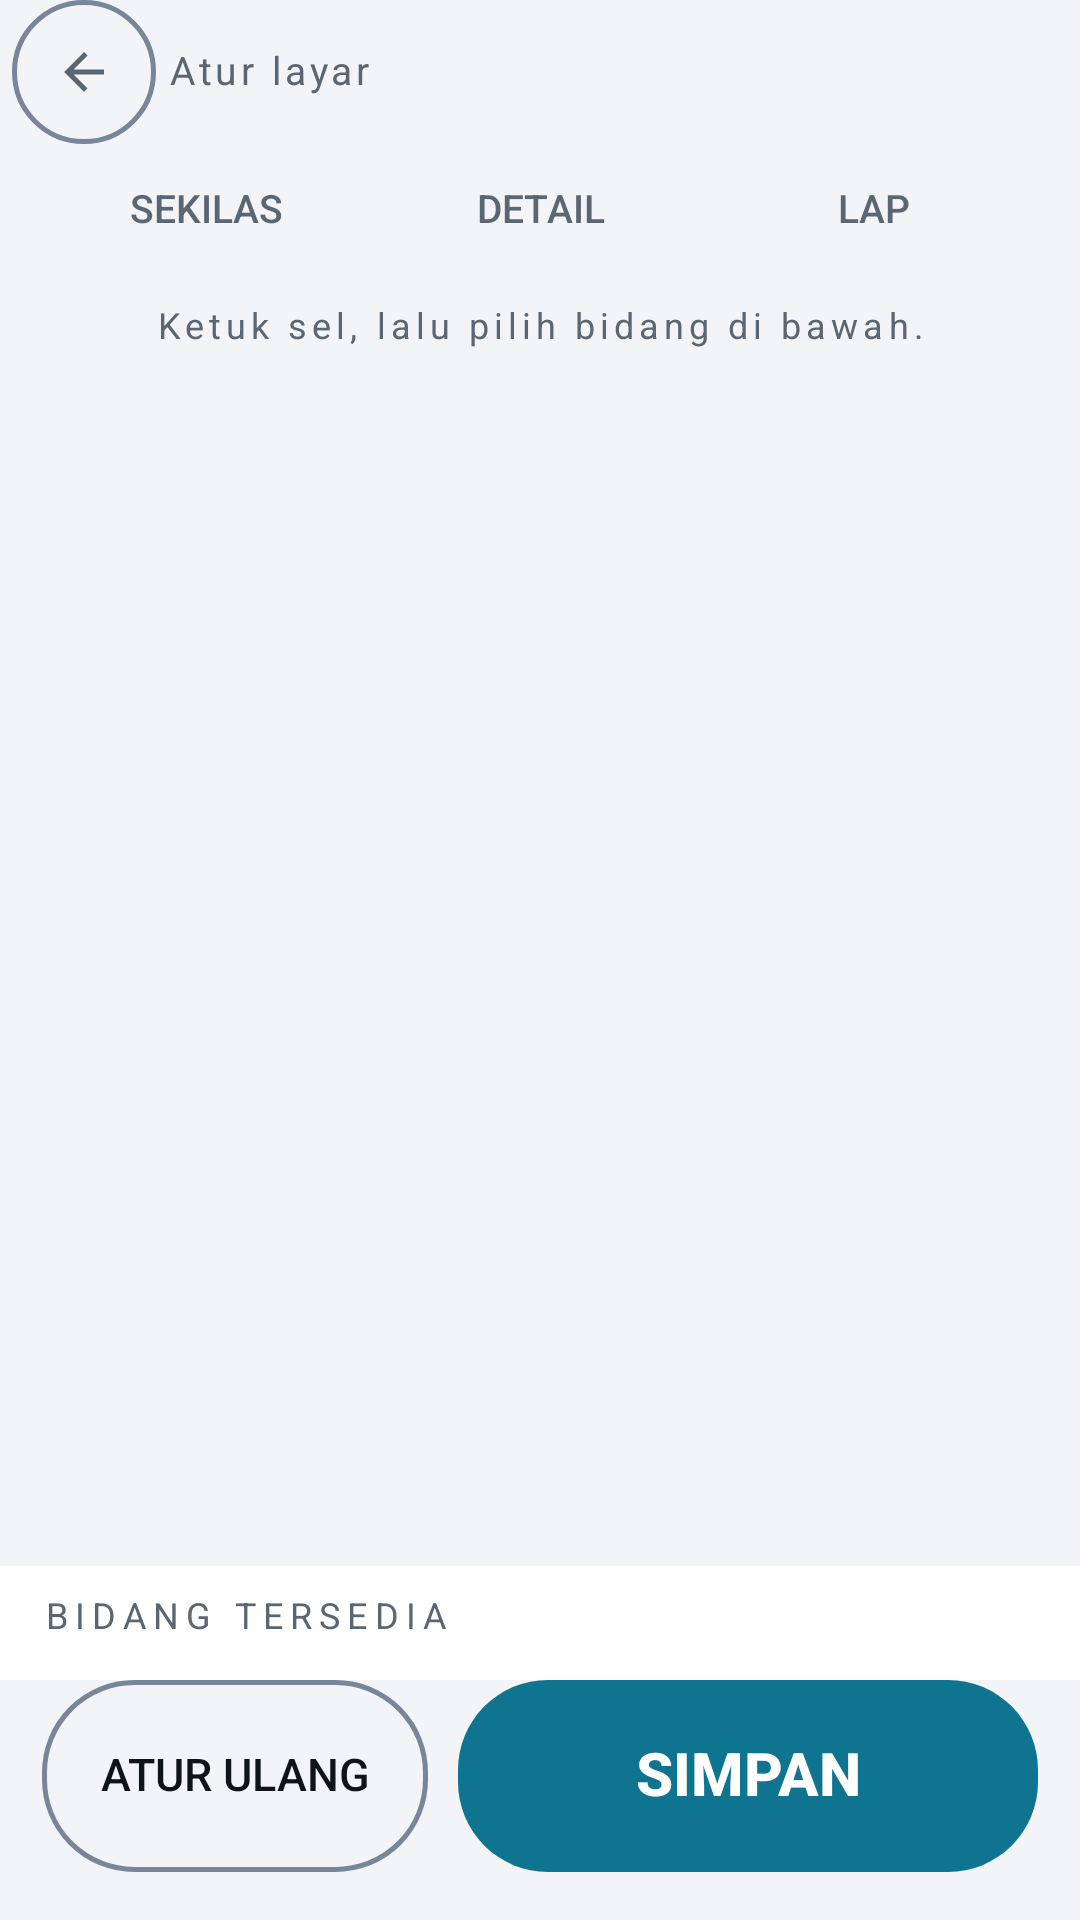

Locate icon controls on the screen. Image size 1080x1920, boxes as [x1=x1, y1=y1, x2=x2, y2=y2].
Kembali: [x1=12, y1=0, x2=156, y2=144]
